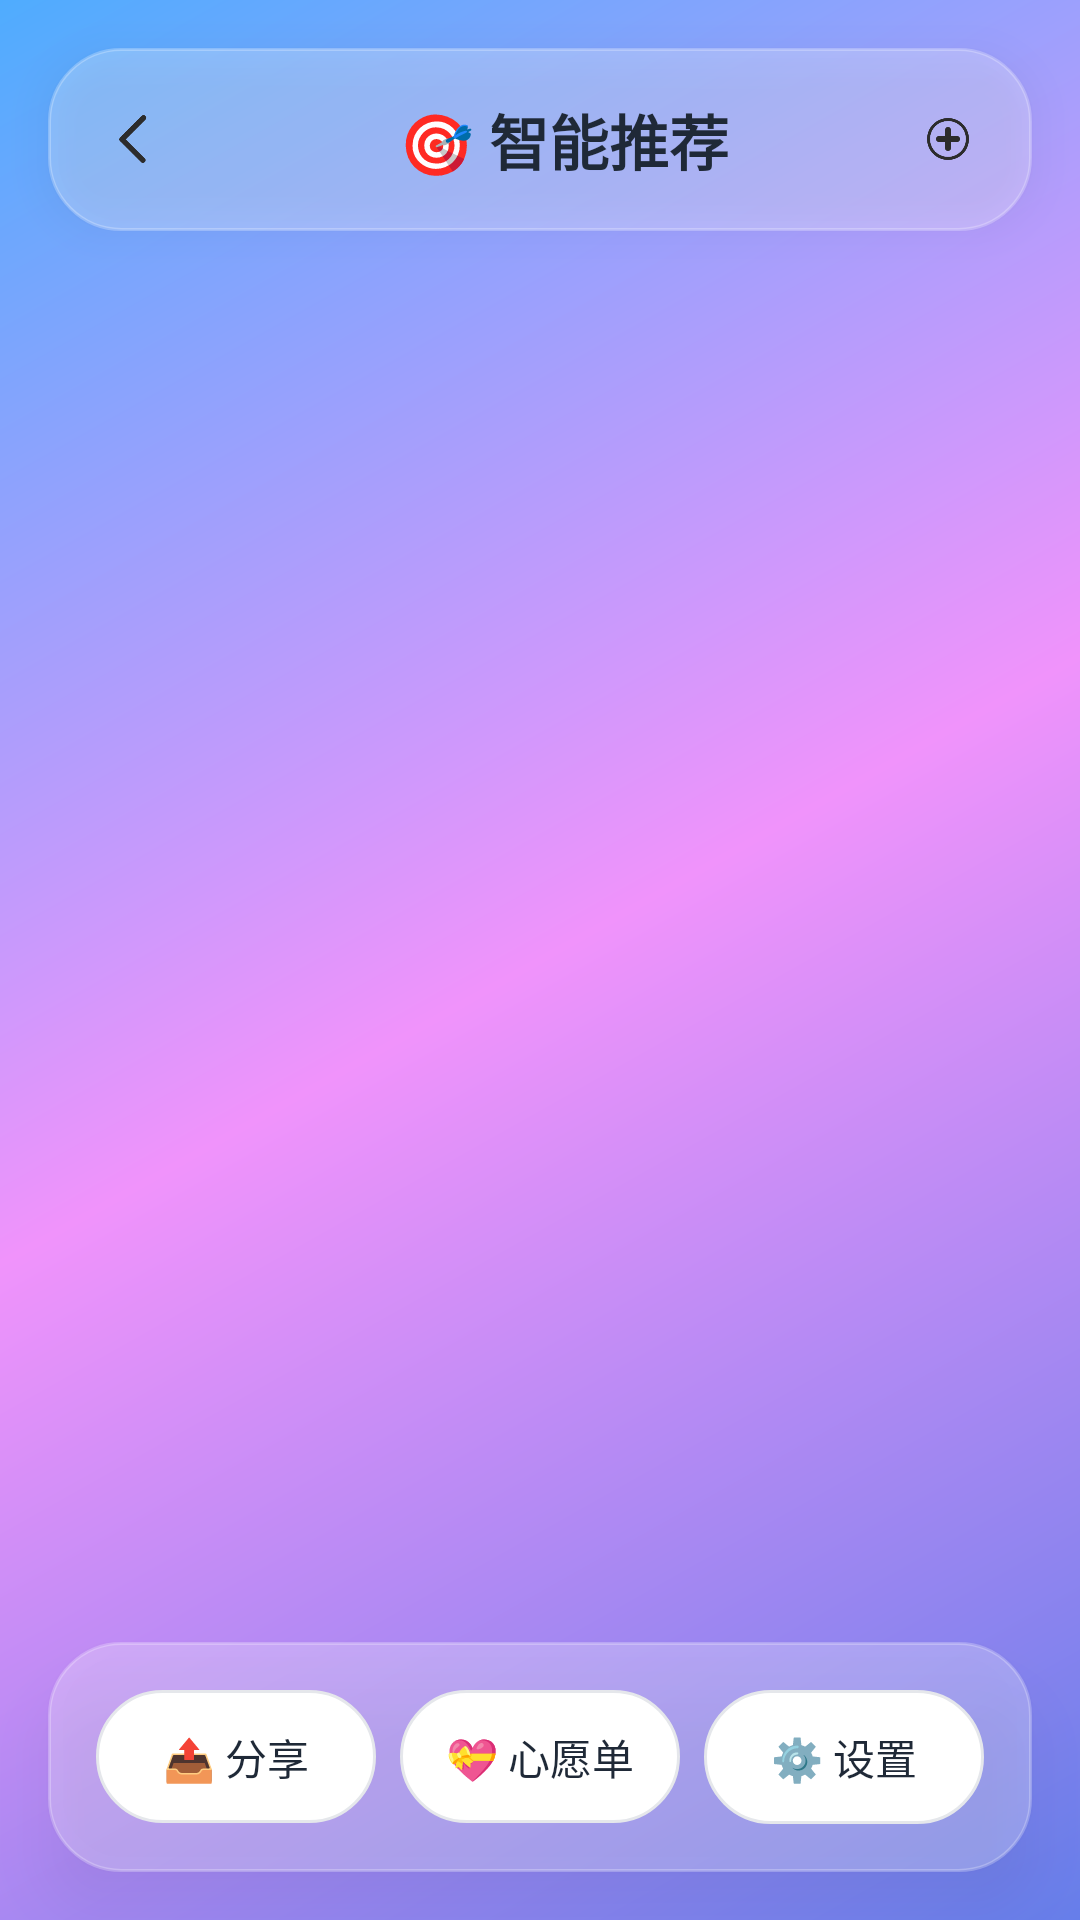

Named icons in this screenshot (1080px×1920px) and their centers, (x=x, y=y):
返回: (x=132, y=139)
